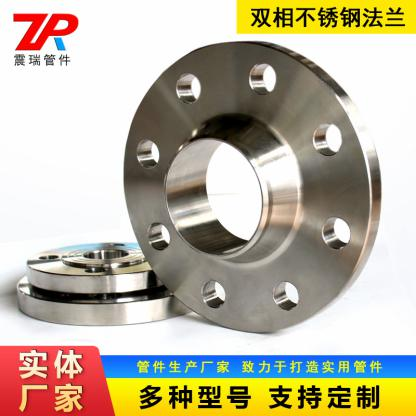FOD: (115, 34, 382, 337), (23, 237, 174, 299)
